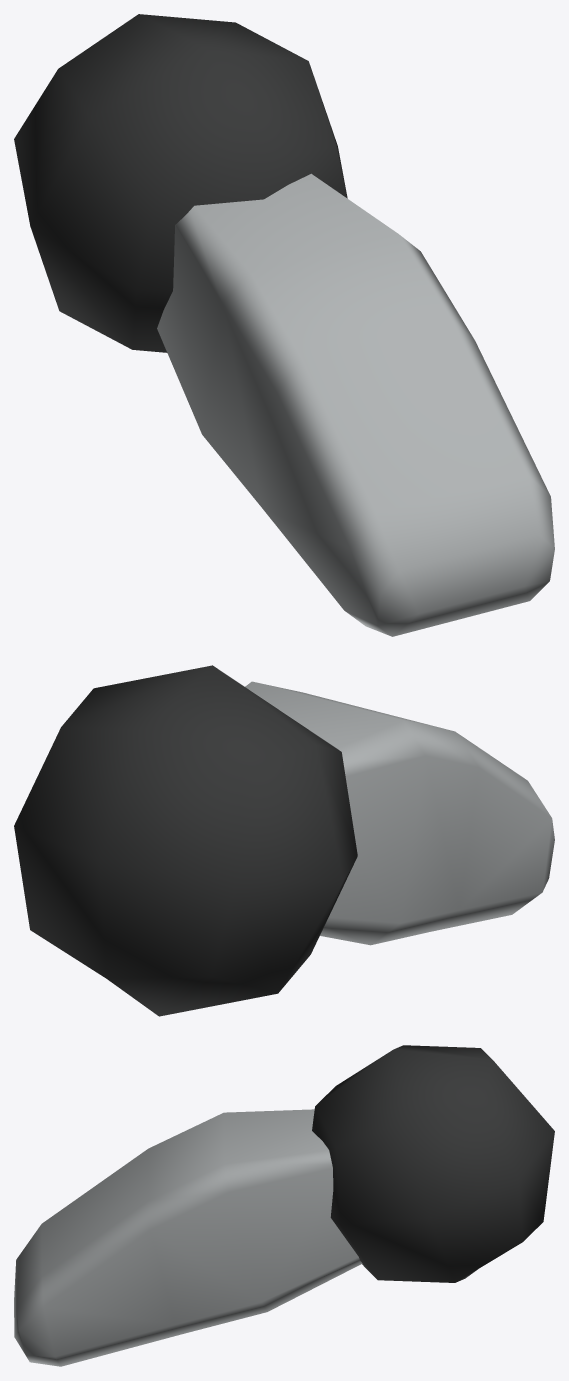
The model's file is Drone_002_R_Finger_006.fbx.
The picture shows the model from 3 angles, top to bottom: view 1: azimuth 30°, elevation 25°; view 2: azimuth 150°, elevation 25°; view 3: azimuth 270°, elevation 25°; orthographic projection. The views are drawn at different scales.
Visible parts, largest first — view 1: Drone_002_R_Finger_006; view 2: Drone_002_R_Finger_006; view 3: Drone_002_R_Finger_006.
Part boxes in pixels (box(x1,y1,x2,y2)): Drone_002_R_Finger_006: box(14, 14, 554, 636); Drone_002_R_Finger_006: box(14, 665, 554, 1016); Drone_002_R_Finger_006: box(14, 1045, 554, 1366).
Bounding box in the file's own units: 2.75 × 5.69 × 3.36.
